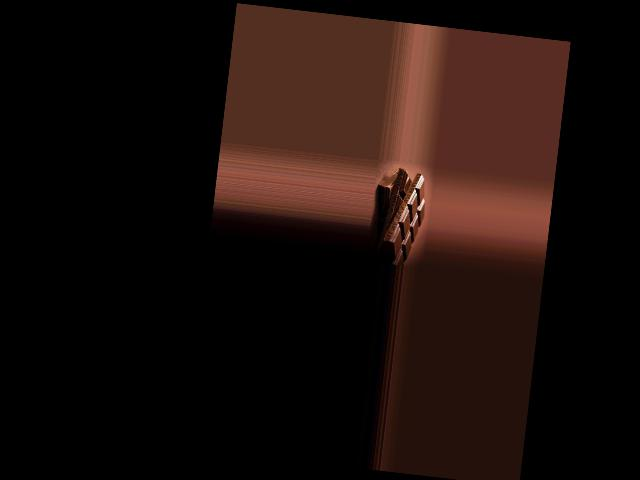chocolate: (375, 167, 428, 264)
